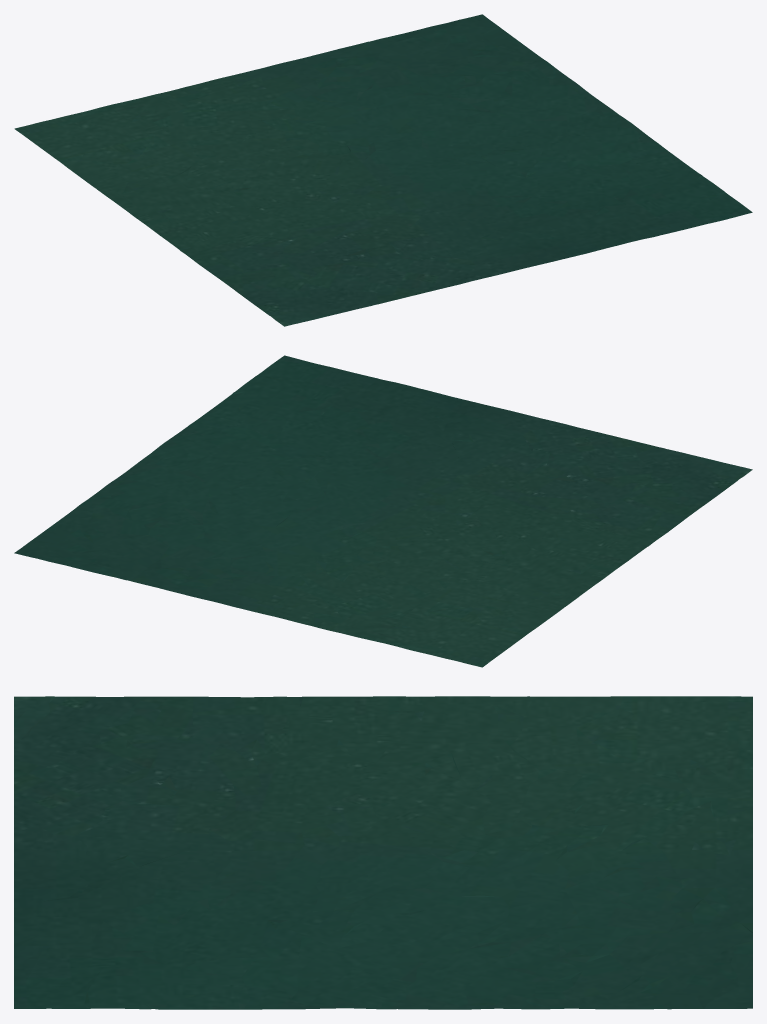
The picture shows the model from 3 angles, top to bottom: view 1: azimuth 30°, elevation 25°; view 2: azimuth 150°, elevation 25°; view 3: azimuth 270°, elevation 25°; orthographic projection. The views are drawn at different scales.
Bounding box in the file's own units: 209 × 0.7661 × 209.
Materials: 2 (2 with a texture image).
